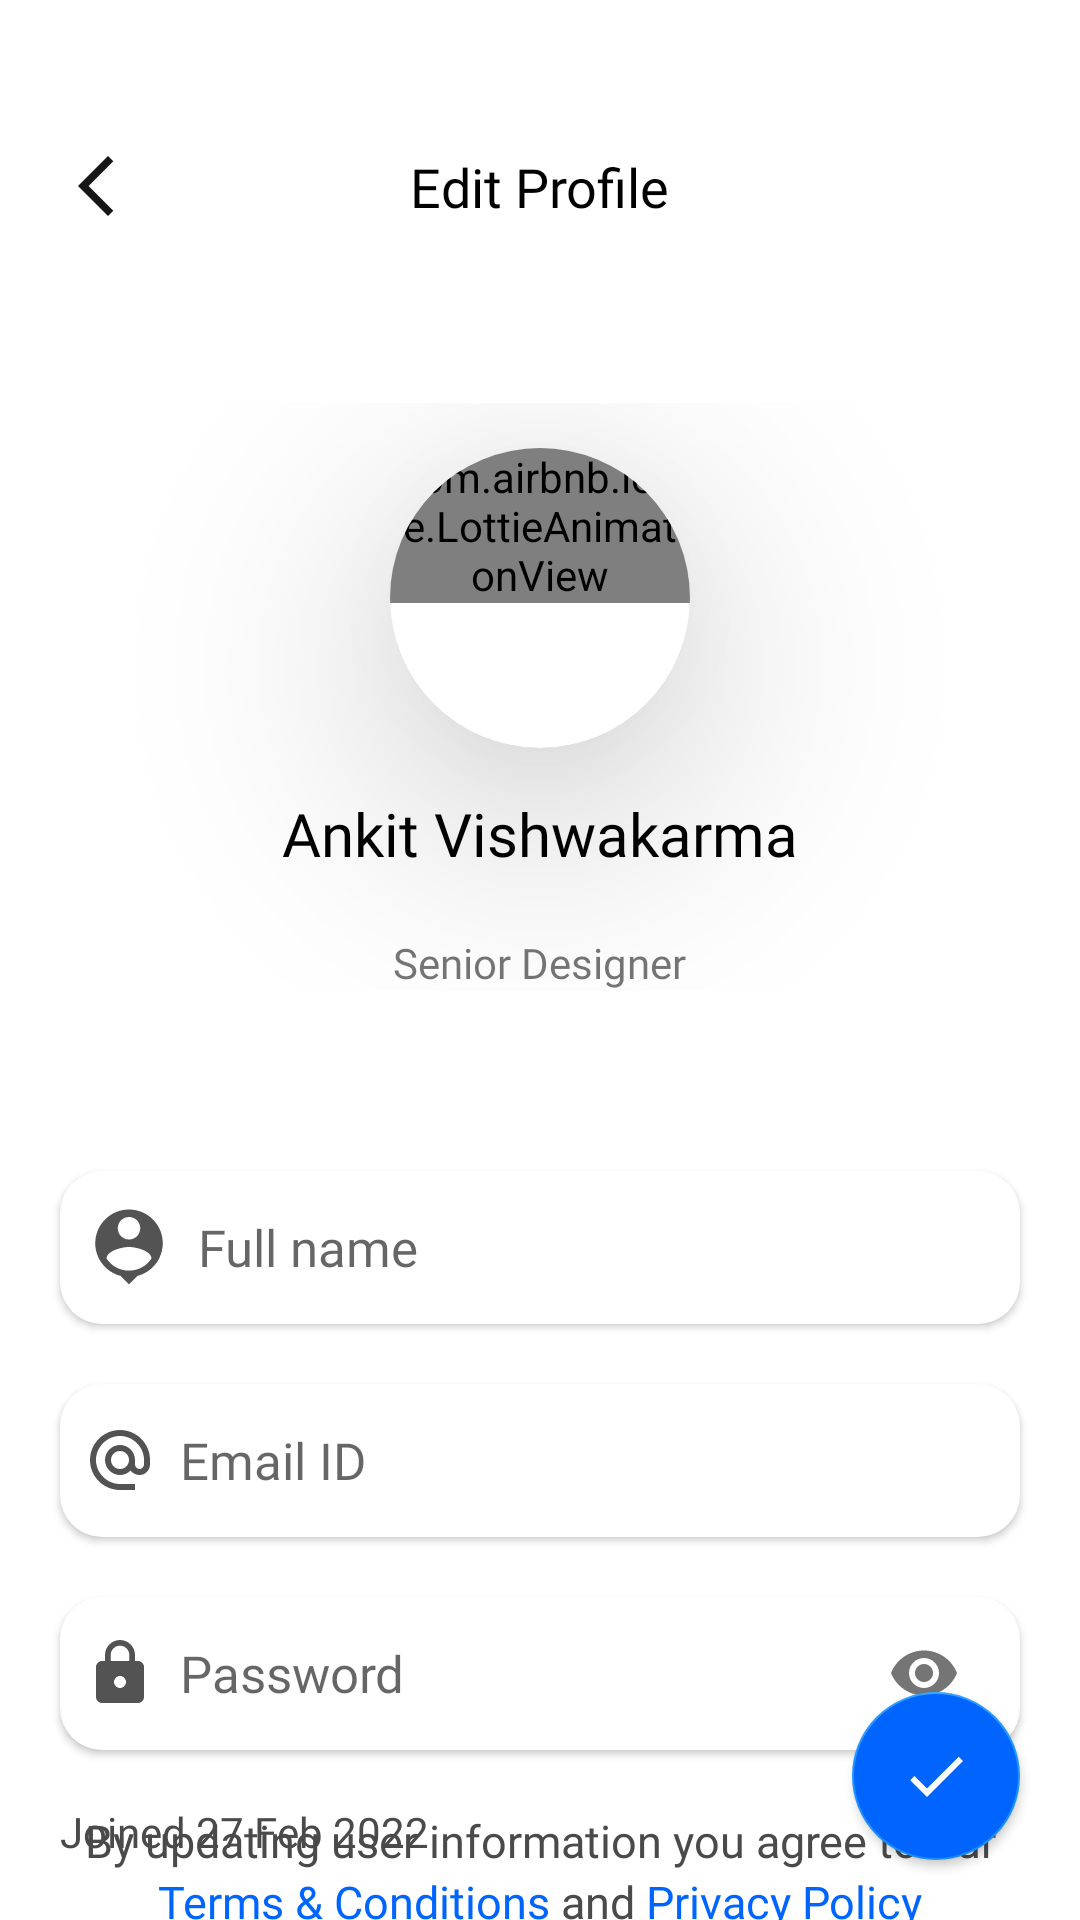

Where icons sit on this 1080px×1920px app screen, as (x1, y1, x2, y2):
arrow back: (78, 156, 113, 216)
Update: (852, 1692, 1020, 1860)
